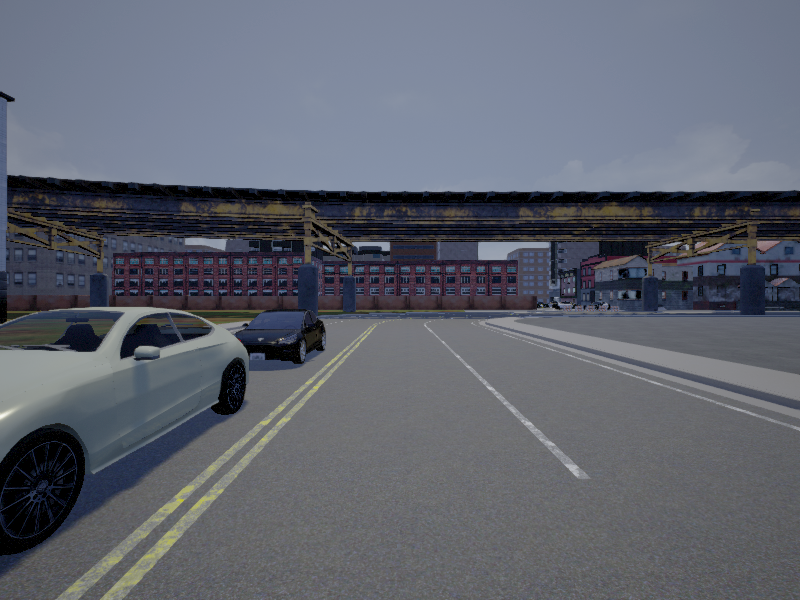Benign: (1, 306, 250, 556), (232, 310, 327, 363)
